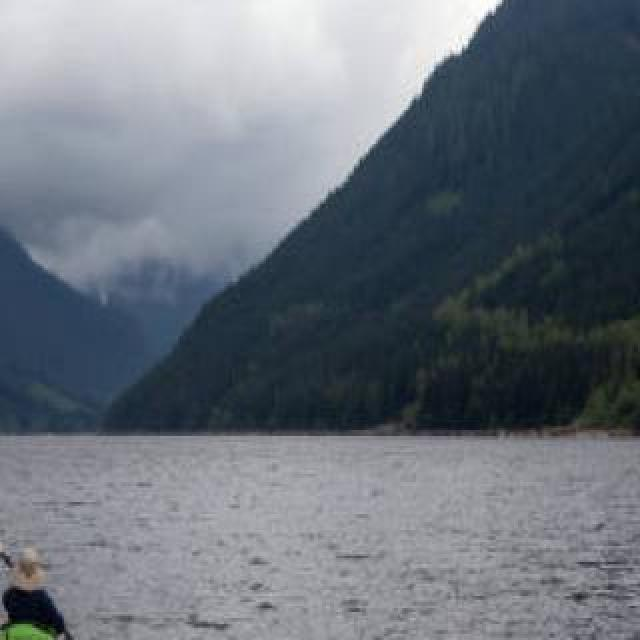kayak: (0, 590, 69, 640)
